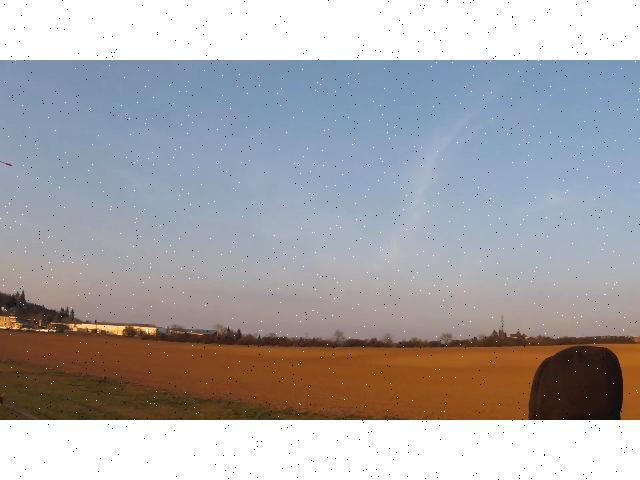Anti-Drone: (0, 154, 20, 170)
